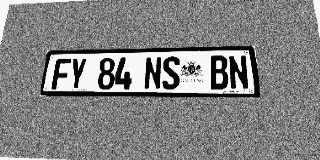4: (114, 57, 133, 89)
8: (97, 58, 116, 89)
B: (209, 55, 229, 90)
F: (51, 58, 71, 89)
N: (228, 55, 249, 90), (144, 57, 162, 89)
S: (162, 56, 180, 90)
Y: (68, 58, 87, 89)
